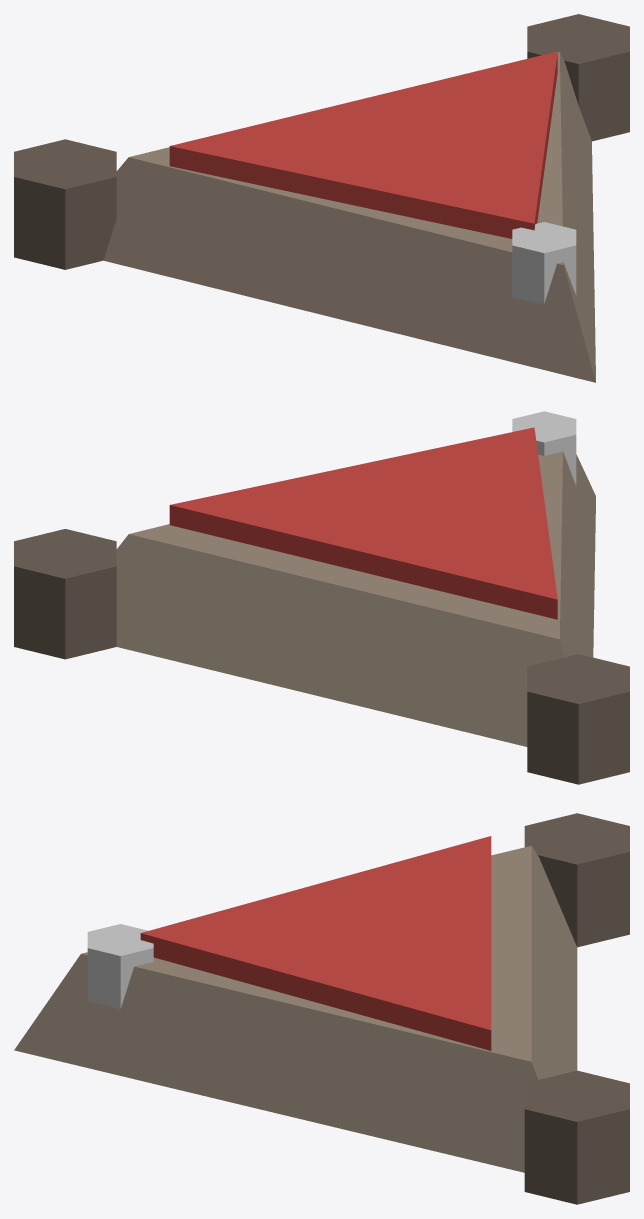
File: hunter_trap.obj
The picture shows the model from 3 angles, top to bottom: view 1: azimuth 30°, elevation 25°; view 2: azimuth 150°, elevation 25°; view 3: azimuth 270°, elevation 25°; orthographic projection. The views are drawn at different scales.
Visible parts, largest first — view 1: hunter_trap_0, hunter_trap_1, hunter_trap_3, hunter_trap_4, hunter_trap_2; view 2: hunter_trap_0, hunter_trap_1, hunter_trap_3, hunter_trap_4, hunter_trap_2; view 3: hunter_trap_0, hunter_trap_1, hunter_trap_4, hunter_trap_3, hunter_trap_2.
Part boxes in pixels (x1,y1,x2,y2): hunter_trap_0: (103, 52, 595, 382); hunter_trap_1: (169, 51, 557, 238); hunter_trap_3: (14, 139, 116, 269); hunter_trap_4: (527, 14, 629, 141); hunter_trap_2: (512, 222, 576, 304); hunter_trap_0: (116, 451, 595, 746); hunter_trap_1: (169, 427, 557, 619); hunter_trap_3: (527, 654, 629, 784); hunter_trap_4: (14, 529, 116, 659); hunter_trap_2: (512, 411, 576, 485); hunter_trap_0: (14, 845, 577, 1172); hunter_trap_1: (140, 836, 491, 1050); hunter_trap_4: (524, 1070, 629, 1204); hunter_trap_3: (524, 813, 629, 947); hunter_trap_2: (87, 924, 153, 1009).
Bounding box in the file's own units: 0.96 × 0.17 × 0.8093.
